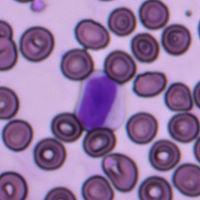L: (74, 70, 125, 132)
